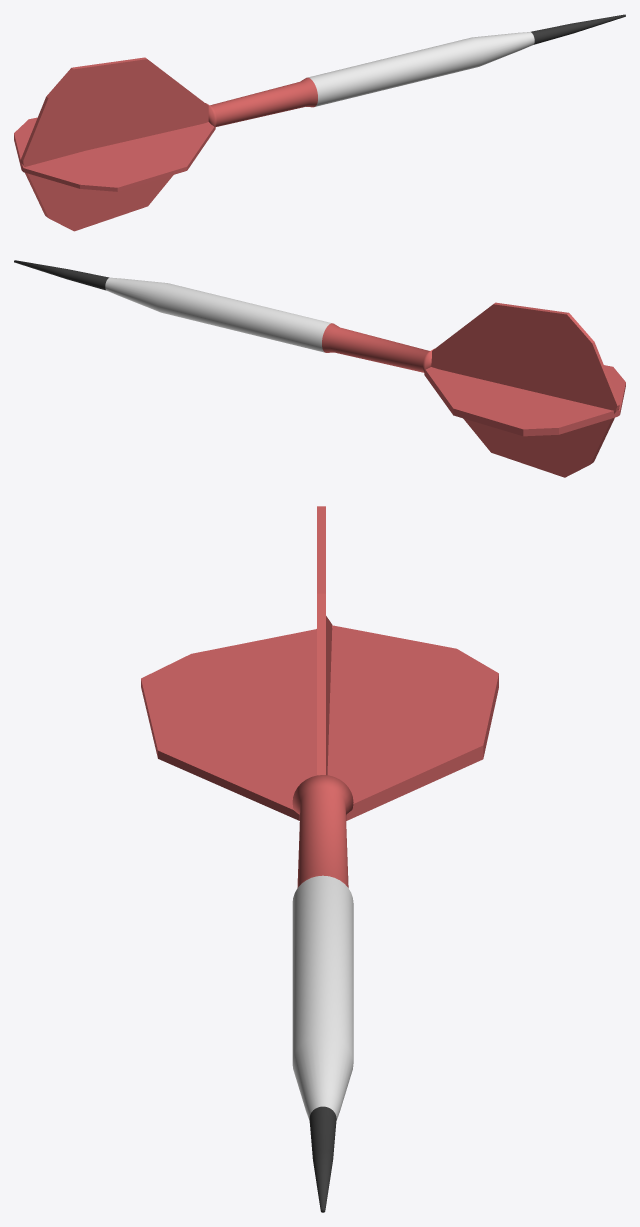
The model's file is DartThrow.fbx.
The picture shows the model from 3 angles, top to bottom: view 1: azimuth 30°, elevation 25°; view 2: azimuth 150°, elevation 25°; view 3: azimuth 270°, elevation 25°; orthographic projection. The views are drawn at different scales.
Parts seen in each view (by area): view 1: Cube, Circle, Cube.001; view 2: Cube, Circle, Cube.001; view 3: Cube.001, Circle, Cube.
Part boxes in pixels (x1,y1,x2,y2): Cube: (20, 57, 208, 231); Circle: (205, 14, 625, 126); Cube.001: (14, 117, 215, 191); Cube: (431, 302, 619, 477); Circle: (14, 260, 434, 372); Cube.001: (424, 365, 625, 436); Cube.001: (141, 625, 498, 820); Circle: (292, 775, 353, 1212); Cube: (317, 506, 332, 775).
Size of the model in its own units: 987 by 254 by 254.
